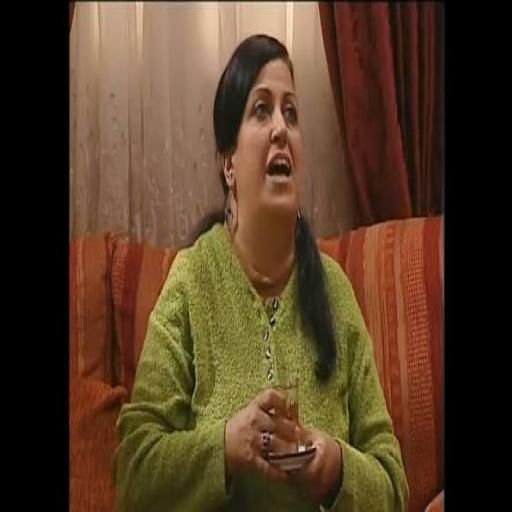jannet: (222, 60, 302, 241)
